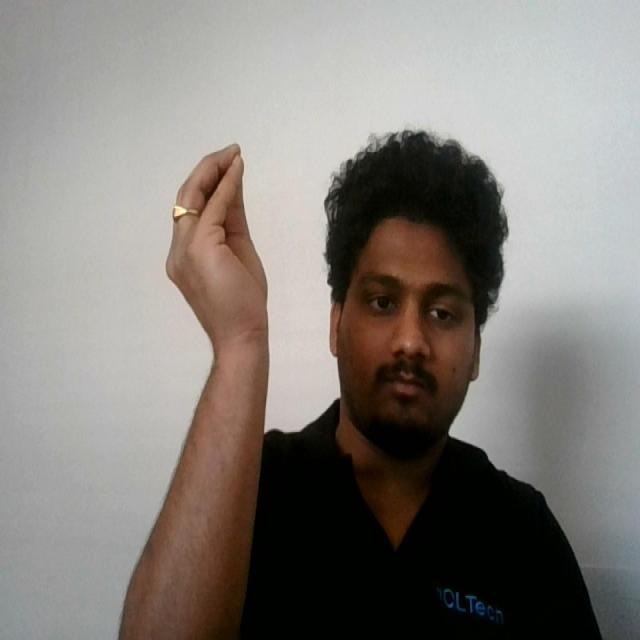Please: (156, 131, 288, 365)
